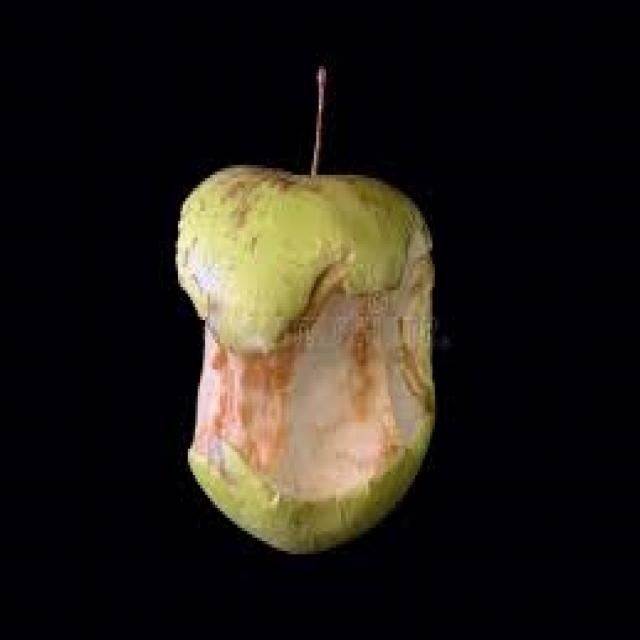organic waste: (170, 62, 435, 548)
